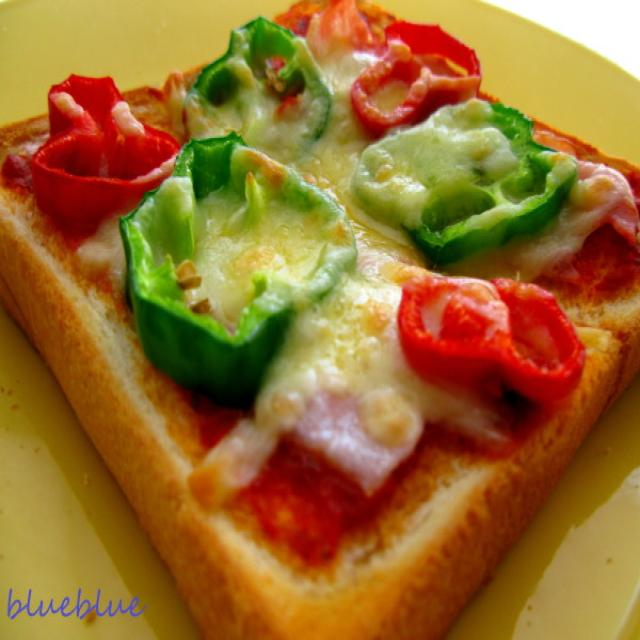面包点心: (2, 6, 618, 627)
